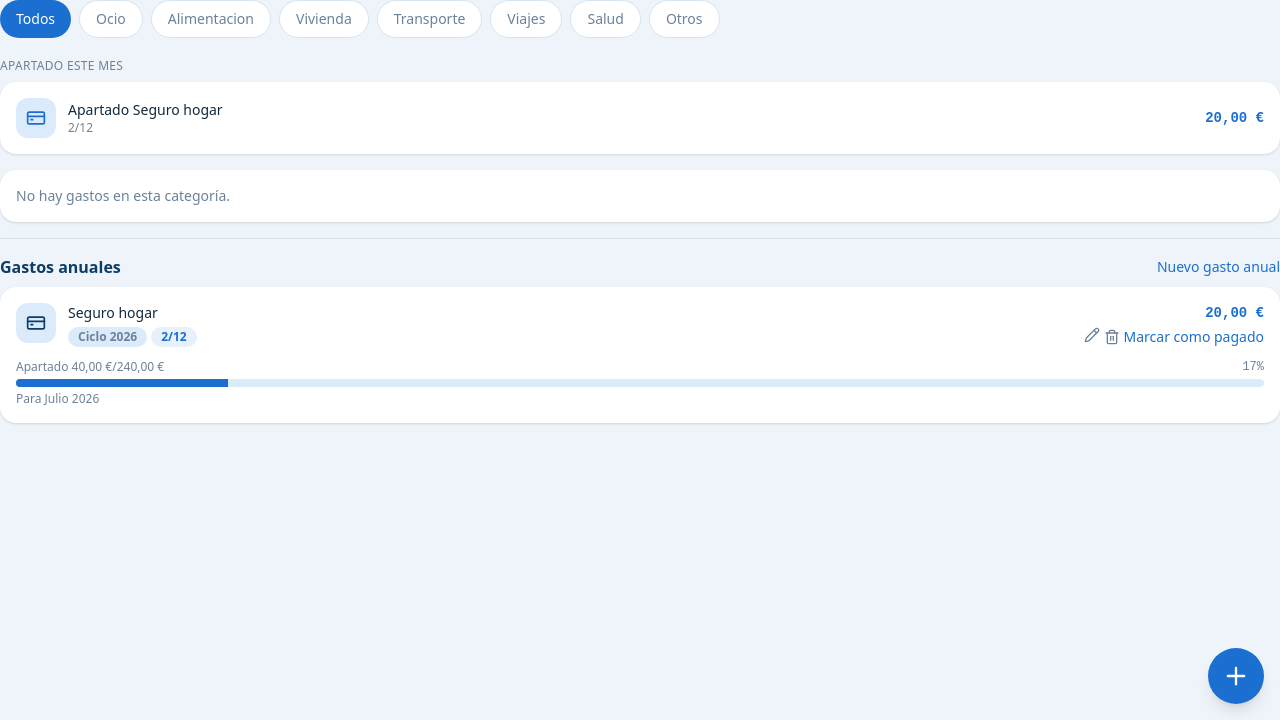
Test case: GastosList › gastos anuales (confirmación sin window.confirm ni alert) › abre el diálogo de la app sin window.confirm y sin borrar nada
The width and height of the screenshot is (1280, 720).
Click the button named "Eliminar" at (1112, 337), box [1104,327,1120,347]
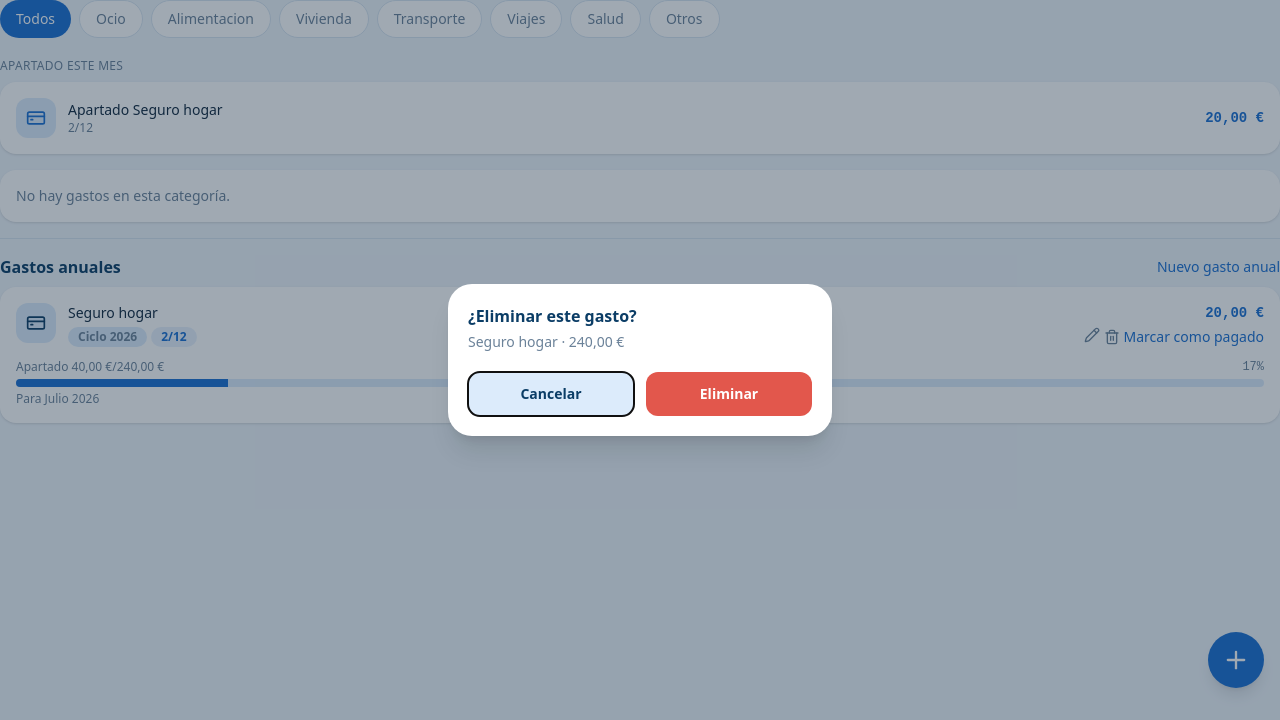
Now the dialog is shown, box [448,284,832,436]
